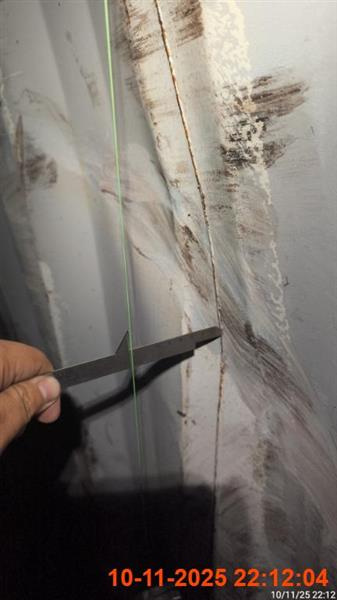hole: (0, 339, 61, 455)
